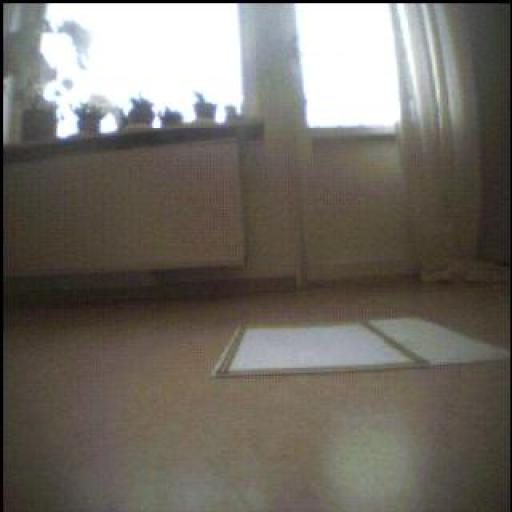Pad: (213, 306, 502, 377)
